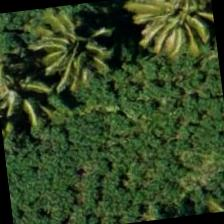Kelapa_Sawit: (20, 4, 120, 104), (0, 33, 60, 130), (134, 0, 217, 63)
